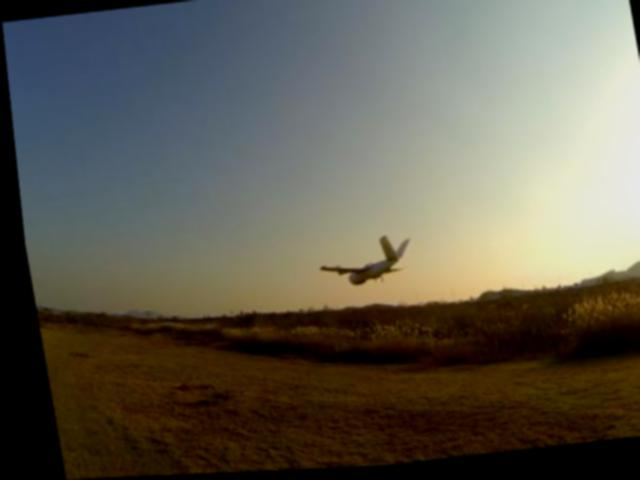uav: (300, 228, 416, 307)
